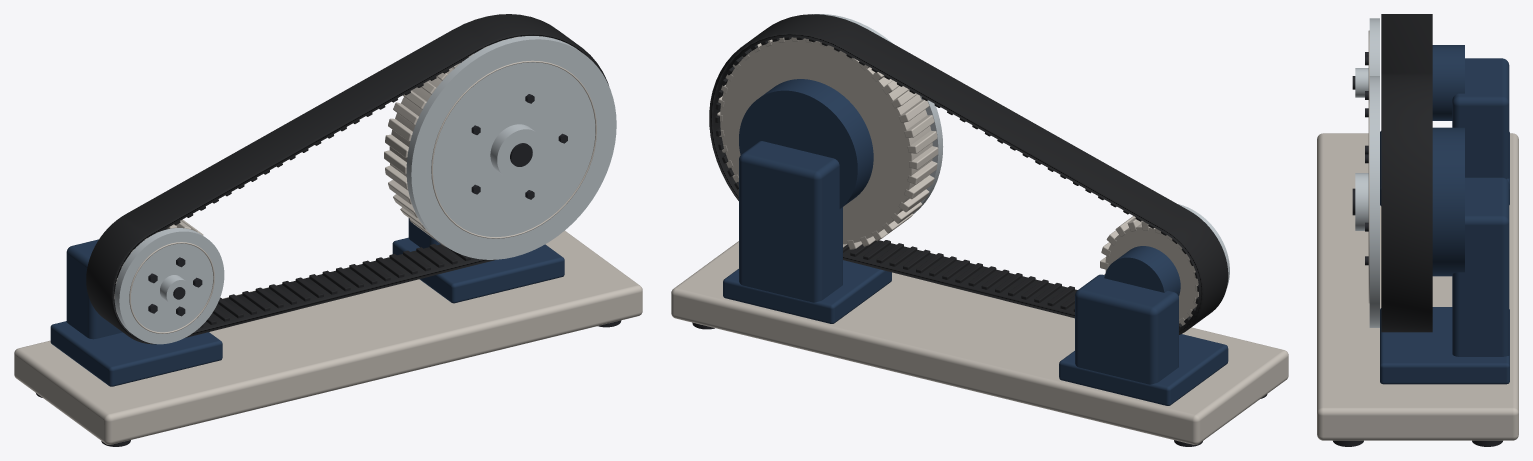
File: robots-46.glb
3 views of the same model, side by side, from view 1: azimuth 30°, elevation 25°; view 2: azimuth 150°, elevation 25°; view 3: azimuth 270°, elevation 25° (orthographic). The views are drawn at different scales.
Parts seen in each view (by area): view 1: base, driven, belt, stands, drive, hubs, fasteners; view 2: base, stands, belt, driven, bearings, drive; view 3: base, stands, belt, bearings, driven, hubs, drive, feet, fasteners.
Boxes of the visible parts, x1,y1,x2,y2 form: base: (14,231,642,444); driven: (384,36,616,259); belt: (86,14,608,344); stands: (50,218,564,386); drive: (114,219,224,344); hubs: (160,124,544,305); fasteners: (148,94,567,316); base: (671,241,1288,444); stands: (723,141,1228,405); belt: (709,14,1228,334); driven: (717,14,943,249); bearings: (739,79,1180,296); drive: (1100,204,1229,325); base: (1317,133,1518,440); stands: (1380,58,1509,384); belt: (1381,14,1432,332); bearings: (1432,45,1464,276); driven: (1368,76,1379,327); hubs: (1352,68,1368,230); drive: (1368,18,1379,100); feet: (1333,440,1502,446); fasteners: (1365,52,1368,265).
Size of the model in its own units: 2.94 by 1.54 by 0.9.
